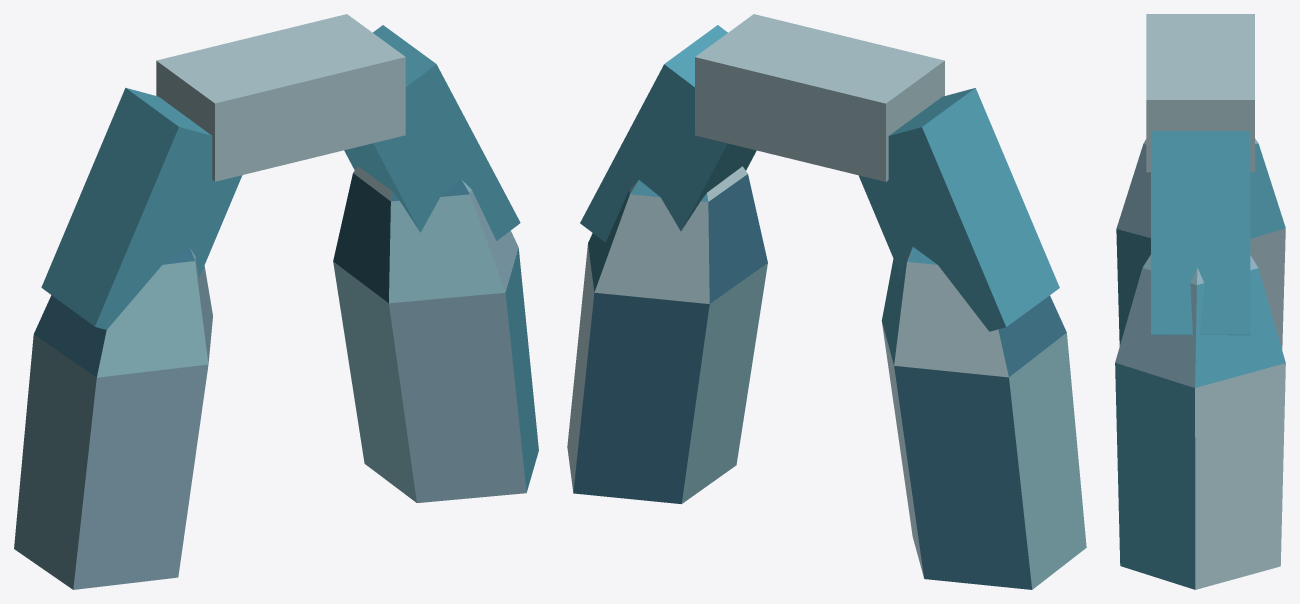
File: frozen-arch.glb
The picture shows the model from 3 angles, left to right: view 1: azimuth 30°, elevation 25°; view 2: azimuth 150°, elevation 25°; view 3: azimuth 270°, elevation 25°; orthographic projection. The views are drawn at different scales.
Visible parts, largest first — view 1: frozen-arch; view 2: frozen-arch; view 3: frozen-arch.
Boxes of the visible parts, bbox=[...] form: frozen-arch: bbox=[14, 14, 538, 589]; frozen-arch: bbox=[567, 14, 1086, 589]; frozen-arch: bbox=[1115, 14, 1285, 589].
Size of the model in its own units: 3.84 by 3.35 by 1.24.
